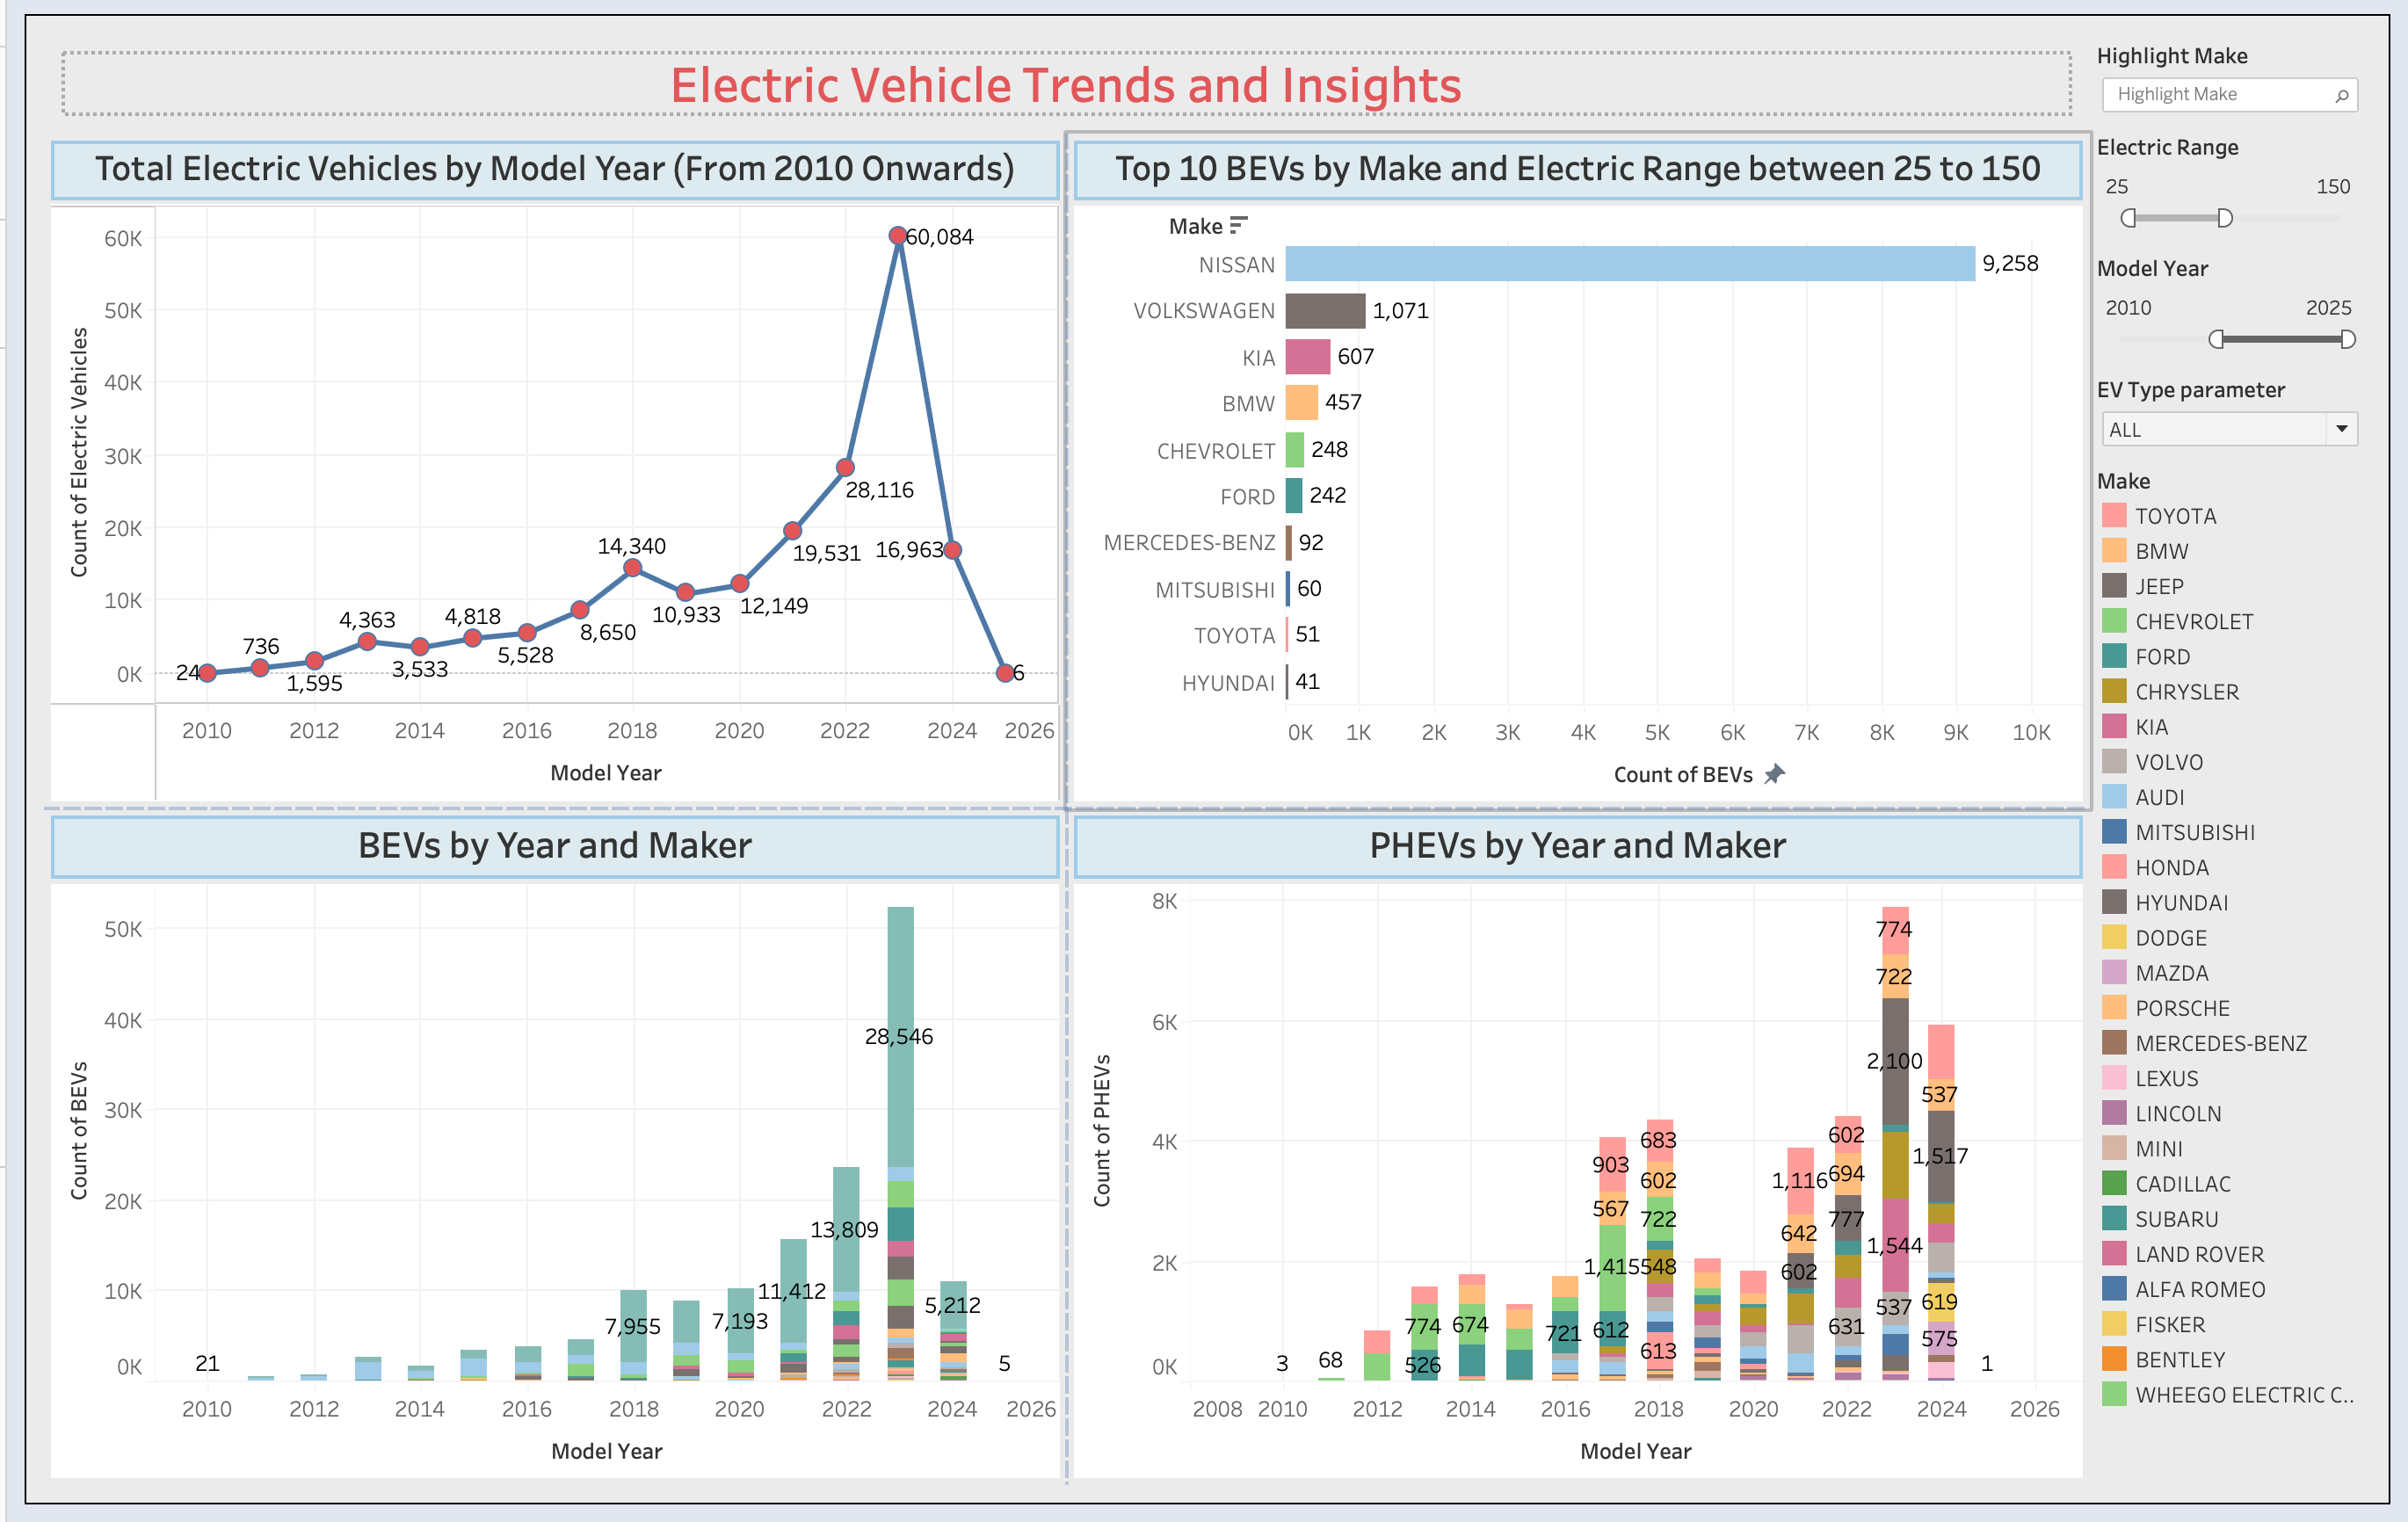

What the dashboard file says about the page in this screenshot:
{"tool":"tableau","page":{"name":"Dashboard 1","canvas":[1366,868],"ordinal":0},"visuals":[{"type":"title","box":[21,21,1164,57]},{"type":"highlighter","title":"Top 10 BEVs by Make and  Electric Range","param":"[federated.0eqykan1nf2w8d1bo9vgq0dt3m57].[none:Make:nk]","box":[1185,21,160,52]},{"type":"filter","title":"Top 10 BEVs by Make and  Electric Range","param":"[federated.0eqykan1nf2w8d1bo9vgq0dt3m57].[none:Electric Range:qk]","box":[1185,73,160,69]},{"type":"worksheet","title":"Total EVs by Year","mark":"Line","rows":["DOL Vehicle ID","DOL Vehicle ID"],"cols":["Model Year"],"box":[21,78,582,384.5]},{"type":"worksheet","title":"Top 10 BEVs by Make and  Electric Range","mark":"Bar","rows":["Make"],"cols":["DOL Vehicle ID"],"box":[603,78,582,384.5]},{"type":"filter","title":"BEVs by Year and Maker","param":"[federated.0eqykan1nf2w8d1bo9vgq0dt3m57].[none:Model Year:qk]","box":[1185,142,160,69]},{"type":"parameter","param":"[Parameters].[Parameter 1]","box":[1185,211,160,52]},{"type":"legend","title":"PHEVs by Year and Maker","param":"[federated.0eqykan1nf2w8d1bo9vgq0dt3m57].[none:Make:nk]","box":[1185,263,160,546]},{"type":"worksheet","title":"BEVs by Year and Maker","mark":"Bar","rows":["DOL Vehicle ID"],"cols":["Model Year"],"box":[21,462.5,582,384.5]},{"type":"worksheet","title":"PHEVs by Year and Maker","mark":"Bar","rows":["DOL Vehicle ID"],"cols":["Model Year"],"box":[603,462.5,582,384.5]}]}

Visuals, with their boxes in screenshot pixels (x1, y1, x2, y2), scaled from the page's 1366x868 canvas onto the 2408x1522 screenshot:
title: x1=37 y1=37 x2=2089 y2=137
"Top 10 BEVs by Make and  Electric Range" highlighter: x1=2089 y1=37 x2=2371 y2=128
"Top 10 BEVs by Make and  Electric Range" filter: x1=2089 y1=128 x2=2371 y2=249
"Total EVs by Year" worksheet (Line marks): x1=37 y1=137 x2=1063 y2=811
"Top 10 BEVs by Make and  Electric Range" worksheet (Bar marks): x1=1063 y1=137 x2=2089 y2=811
"BEVs by Year and Maker" filter: x1=2089 y1=249 x2=2371 y2=370
parameter: x1=2089 y1=370 x2=2371 y2=461
"PHEVs by Year and Maker" legend: x1=2089 y1=461 x2=2371 y2=1418
"BEVs by Year and Maker" worksheet (Bar marks): x1=37 y1=811 x2=1063 y2=1485
"PHEVs by Year and Maker" worksheet (Bar marks): x1=1063 y1=811 x2=2089 y2=1485
